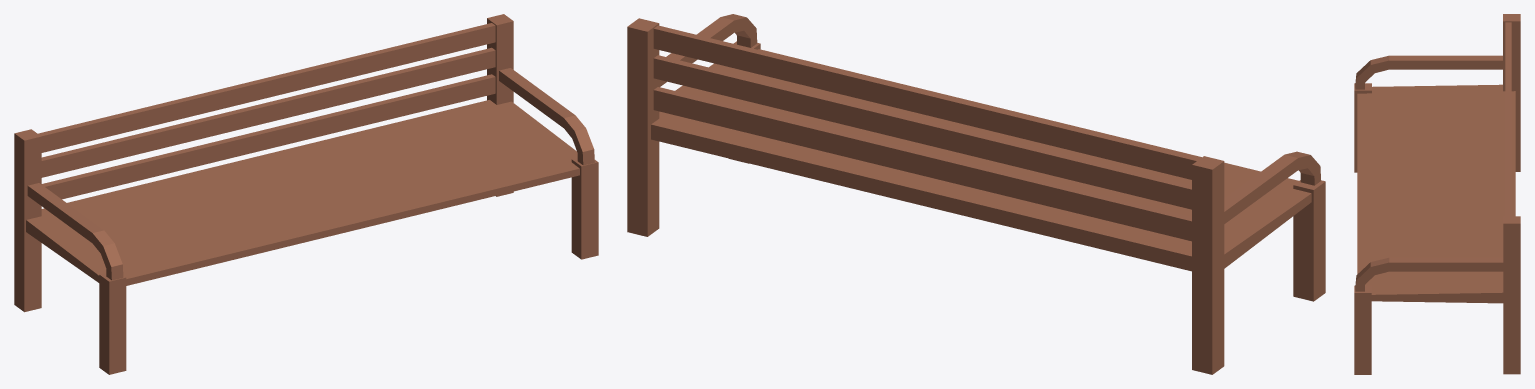
The model's file is fudge-bench-wooden.glb.
3 views of the same model, side by side, from view 1: azimuth 30°, elevation 25°; view 2: azimuth 150°, elevation 25°; view 3: azimuth 270°, elevation 25° (orthographic). The views are drawn at different scales.
Visible parts, largest first — view 1: Cube.001; view 2: Cube.001; view 3: Cube.001.
Boxes of the visible parts, box(x1,y1,x2,y2) form: Cube.001: box(14, 14, 598, 374); Cube.001: box(627, 14, 1325, 374); Cube.001: box(1354, 14, 1520, 374).
Bounding box in the file's own units: 4.84 × 1.63 × 1.62.
